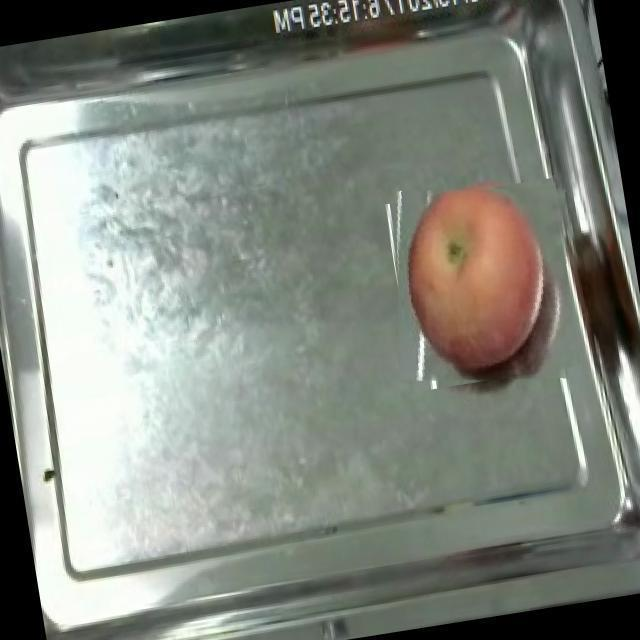apple: (407, 185, 544, 374)
